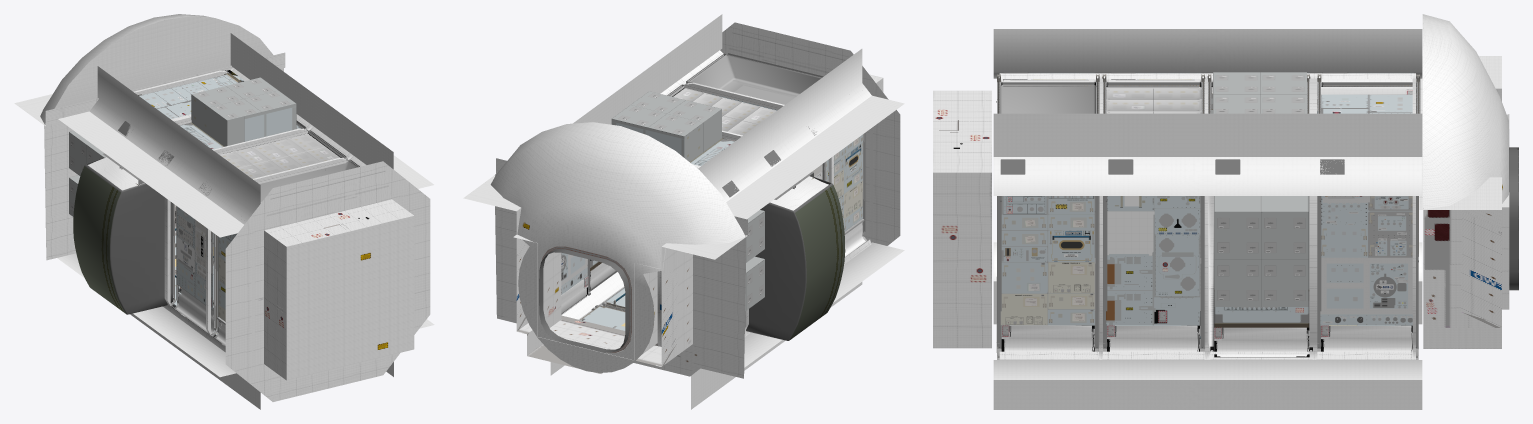
The model's file is Columbus.fbx.
The picture shows the model from 3 angles, left to right: view 1: azimuth 30°, elevation 25°; view 2: azimuth 150°, elevation 25°; view 3: azimuth 270°, elevation 25°; orthographic projection. The views are drawn at different scales.
Parts seen in each view (by area): view 1: Columbus_CollapsedForUnity.Starboard, Columbus_CollapsedForUnity.Zenith, Columbus_CollapsedForUnity.Port, Columbus_CollapsedForUnity.Aft, EDR2, EXPRESS_Racks_ATLAS_10B_Base, Columbus_CollapsedForUnity.Zenith.001, Columbus_CollapsedForUnity.Aft.001, Columbus_CollapsedForUnity.Nadir, EXPRESS_Racks_ATLAS_3_Base, EXPRESS_Racks_ATLAS_Plate Reader, Columbus_CollapsedForUnity_CASA (+1 smaller); view 2: Columbus_CollapsedForUnity.Port, Columbus_CollapsedForUnity.Zenith, EDR2, Columbus_CollapsedForUnity.Aft, Columbus_CollapsedForUnity.Starboard, EXPRESS_Racks_ATLAS_10B_Base, Columbus_CollapsedForUnity_CASA, Columbus_CollapsedForUnity.Forward, Columbus_CollapsedForUnity.Nadir, EXPRESS_Racks_ATLAS_3_Base, Columbus_CollapsedForUnity.Zenith.001, Columbus_CollapsedForUnity.Nadir.COL_D1_A/F (+2 smaller); view 3: Columbus_CollapsedForUnity.Forward, Columbus_CollapsedForUnity.Zenith, Columbus_CollapsedForUnity.Port, Columbus_CollapsedForUnity.Starboard, Columbus_CollapsedForUnity.Nadir, EXPRESS_Racks_ATLAS_9B_Base, Columbus_CollapsedForUnity.Forward.001, EXPRESS_Racks_ATLAS_10B_Base, Columbus_CollapsedForUnity_CASA, Columbus_CollapsedForUnity.Zenith.001, Columbus_CollapsedForUnity.Aft.
Part boxes in pixels (<box>): Columbus_CollapsedForUnity.Starboard: <box>225,161,430,401</box>; Columbus_CollapsedForUnity.Zenith: <box>89,33,393,224</box>; Columbus_CollapsedForUnity.Port: <box>14,14,285,260</box>; Columbus_CollapsedForUnity.Aft: <box>57,111,243,377</box>; EDR2: <box>73,153,172,314</box>; EXPRESS_Racks_ATLAS_10B_Base: <box>179,77,300,149</box>; Columbus_CollapsedForUnity.Zenith.001: <box>133,67,366,182</box>; Columbus_CollapsedForUnity.Aft.001: <box>163,197,225,352</box>; Columbus_CollapsedForUnity.Nadir: <box>130,228,393,409</box>; EXPRESS_Racks_ATLAS_3_Base: <box>69,132,106,216</box>; EXPRESS_Racks_ATLAS_Plate Reader: <box>209,107,244,146</box>; Columbus_CollapsedForUnity_CASA: <box>259,161,355,203</box>; Columbus_CollapsedForUnity.Port: <box>463,122,747,378</box>; Columbus_CollapsedForUnity.Zenith: <box>573,14,871,201</box>; EDR2: <box>746,172,845,340</box>; Columbus_CollapsedForUnity.Aft: <box>726,95,904,367</box>; Columbus_CollapsedForUnity.Starboard: <box>687,22,900,248</box>; EXPRESS_Racks_ATLAS_10B_Base: <box>611,91,734,165</box>; Columbus_CollapsedForUnity_CASA: <box>690,56,820,109</box>; Columbus_CollapsedForUnity.Forward: <box>561,90,680,319</box>; Columbus_CollapsedForUnity.Nadir: <box>550,249,862,409</box>; EXPRESS_Racks_ATLAS_3_Base: <box>745,210,764,310</box>; Columbus_CollapsedForUnity.Zenith.001: <box>660,50,784,168</box>; Columbus_CollapsedForUnity.Nadir.COL_D1_A/F: <box>580,306,625,330</box>; Columbus_CollapsedForUnity.Forward: <box>993,157,1422,379</box>; Columbus_CollapsedForUnity.Zenith: <box>993,29,1422,156</box>; Columbus_CollapsedForUnity.Port: <box>1419,14,1518,348</box>; Columbus_CollapsedForUnity.Starboard: <box>933,90,991,348</box>; Columbus_CollapsedForUnity.Nadir: <box>993,277,1422,409</box>; EXPRESS_Racks_ATLAS_9B_Base: <box>1214,196,1309,327</box>; Columbus_CollapsedForUnity.Forward.001: <box>999,196,1415,359</box>; EXPRESS_Racks_ATLAS_10B_Base: <box>1211,72,1306,113</box>; Columbus_CollapsedForUnity_CASA: <box>1000,84,1096,113</box>; Columbus_CollapsedForUnity.Zenith.001: <box>999,73,1415,113</box>; Columbus_CollapsedForUnity.Aft: <box>993,80,1422,281</box>.
Size of the model in its own units: 3953 by 3778 by 6004.
